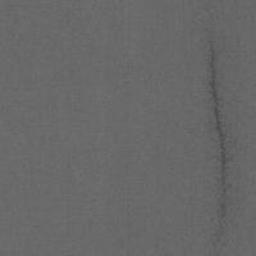Inclusion: (205, 37, 232, 243)
